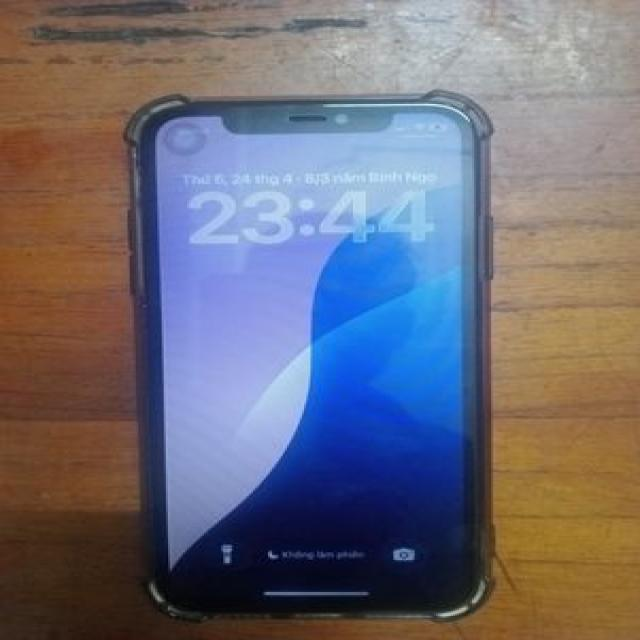gen_11: (120, 84, 498, 619)
